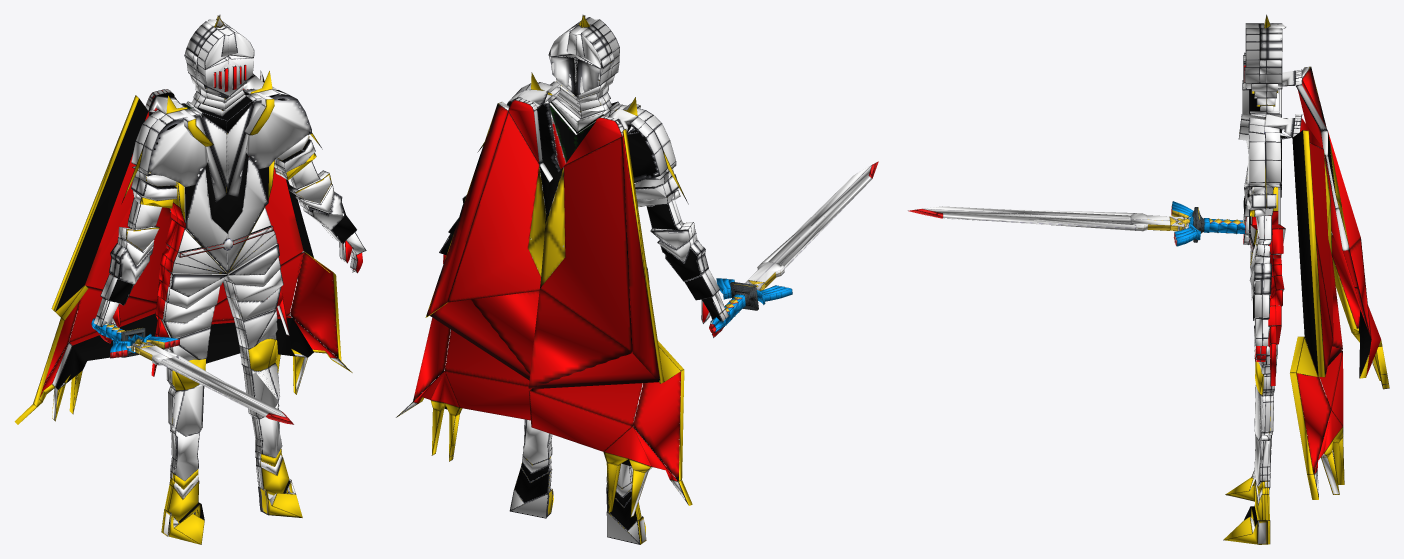
Rendered from KnightlayoutUVAnimationSwordTest.obj.
The picture shows the model from 3 angles, left to right: view 1: azimuth 30°, elevation 25°; view 2: azimuth 150°, elevation 25°; view 3: azimuth 270°, elevation 25°; orthographic projection. The views are drawn at different scales.
Visible parts, largest first — view 1: Plane; view 2: Plane; view 3: Plane.
Boxes of the visible parts, left/top/right/bottom form: Plane: left=14, top=14, right=366, bottom=544; Plane: left=396, top=14, right=878, bottom=544; Plane: left=908, top=14, right=1389, bottom=544.
Bounding box in the file's own units: 12.99 × 19.93 × 17.48.
